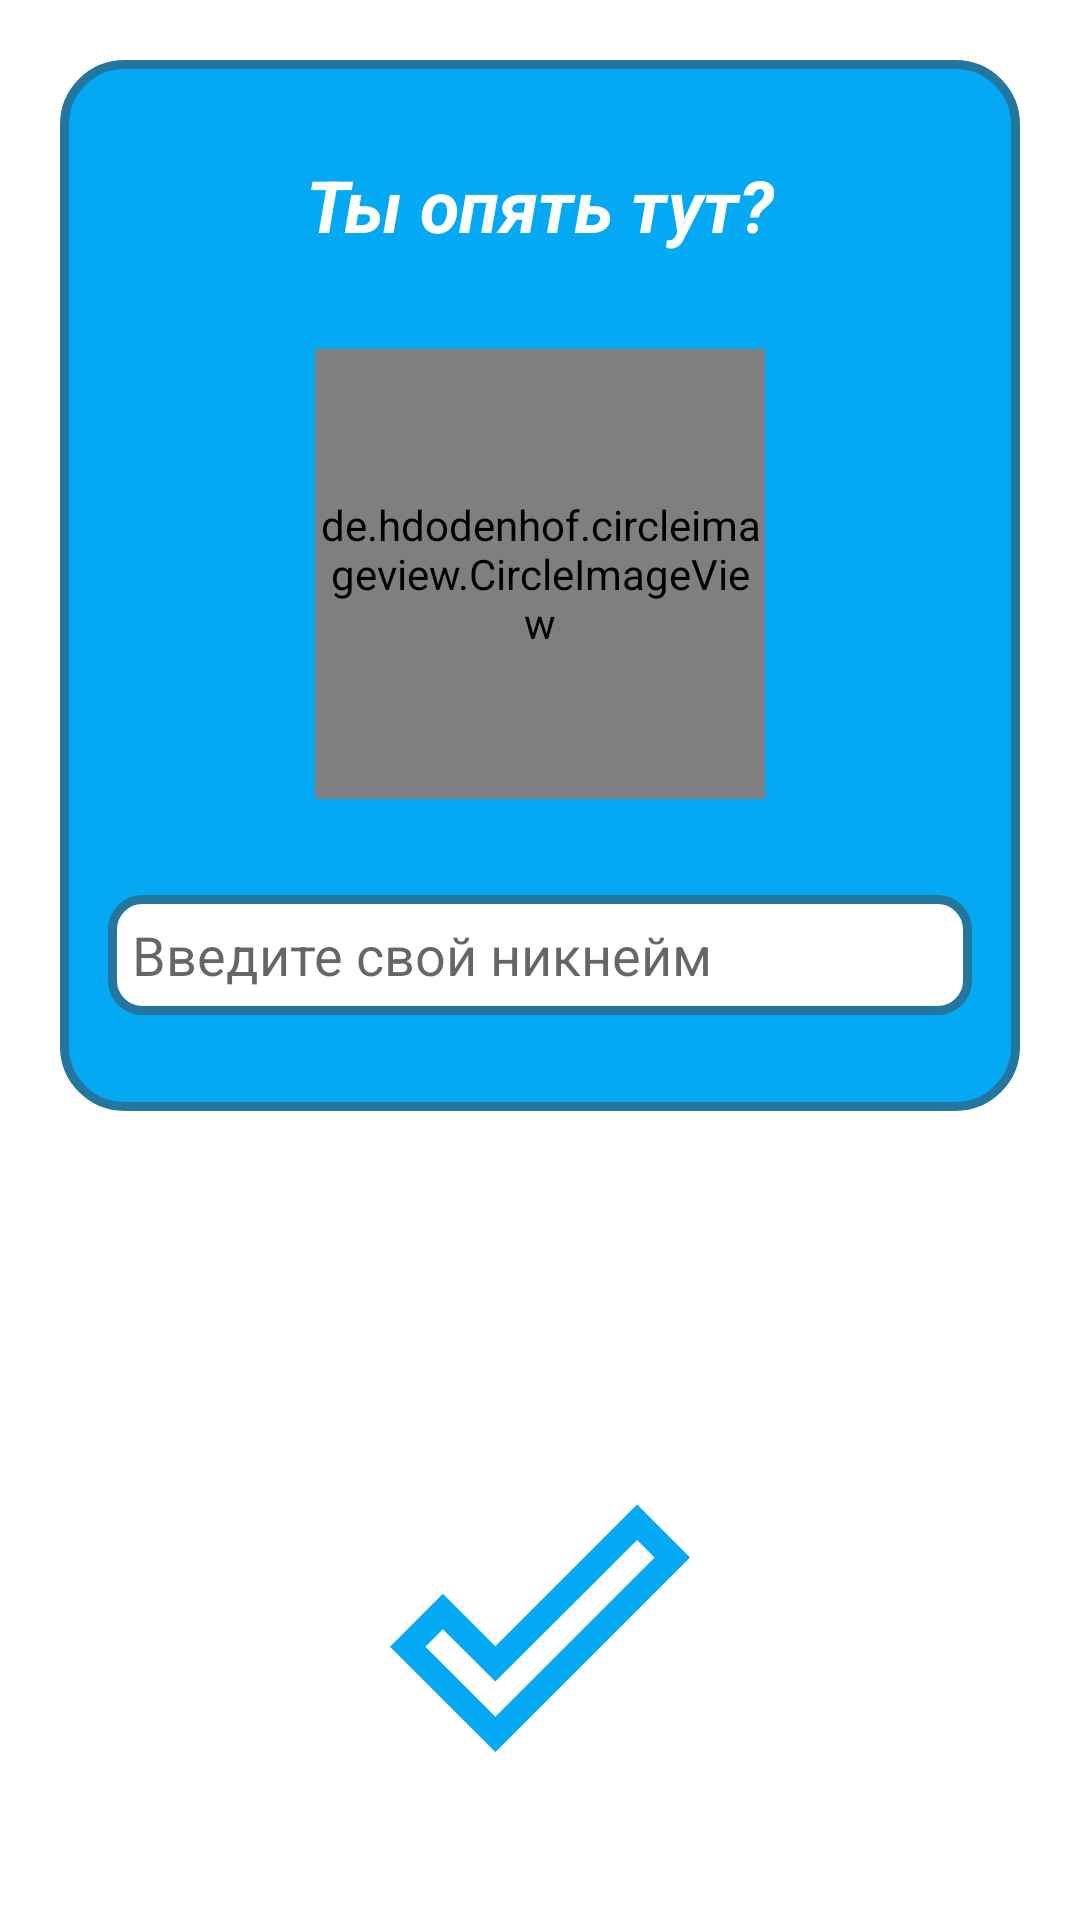

Icon click points for this 1080w x 1920h phone screenshot, format point (x, y):
tick: point (540, 1628)
